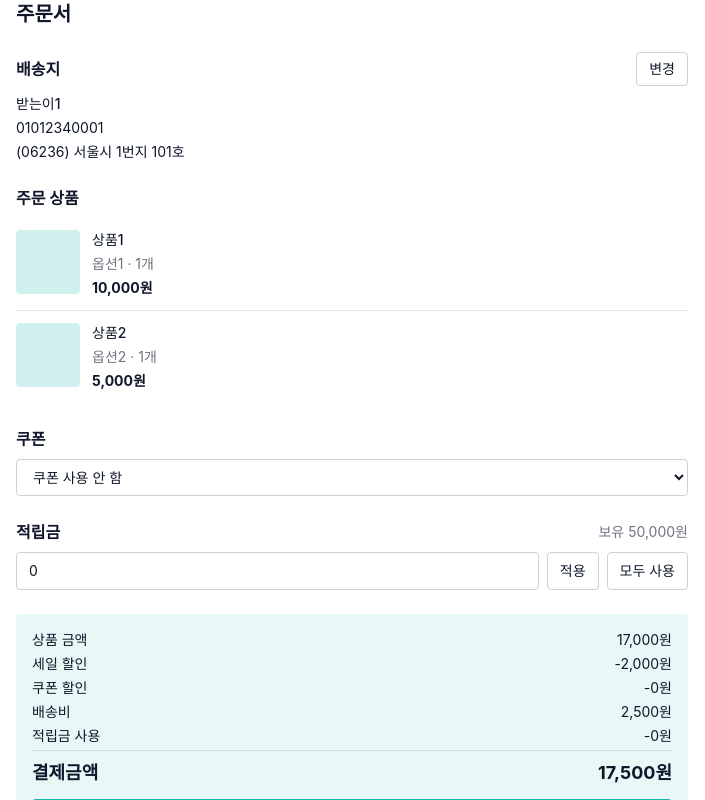
미리보기 오류면 메시지를 보여 주고 결제하기를 막는다
The width and height of the screenshot is (705, 800).
Expected: the text "상품1" is shown, [92, 231, 124, 248]
Replace the text in the number field named "사용할 적립금" with "17450" at {"x": 277, "y": 571}, box [16, 552, 539, 590]
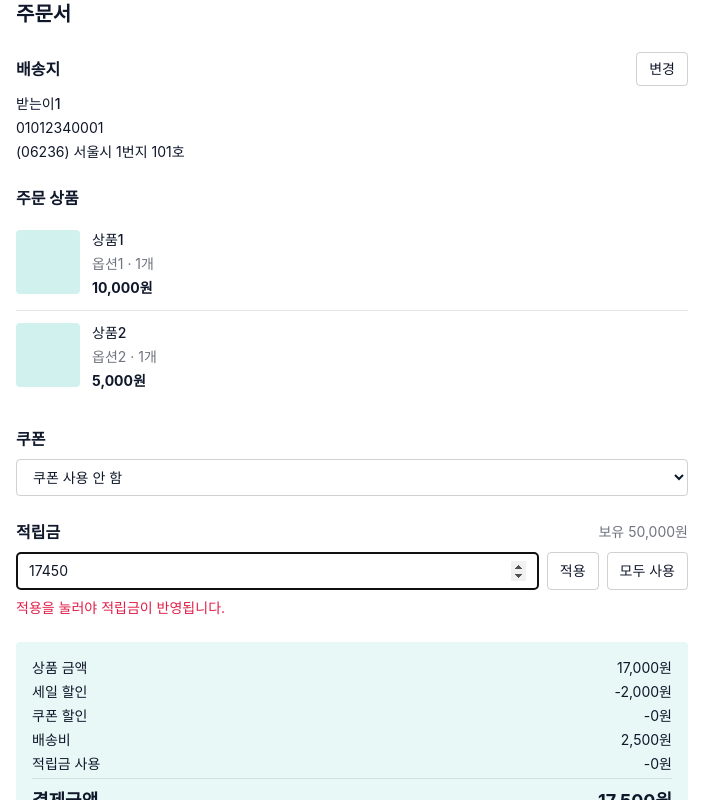
Click the button "적용" at {"x": 573, "y": 571}, box [547, 552, 599, 590]
(page scrolled)
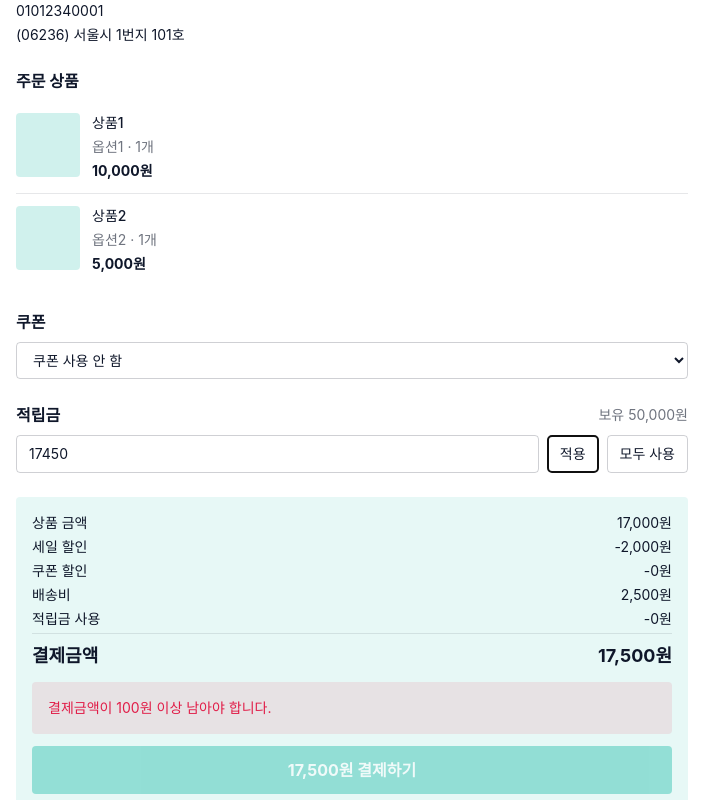
Expected: the text "상품1" is shown, [92, 114, 124, 131]
Expected: the button "17,500원 결제하기" is disabled, [32, 746, 672, 794]
Expected: the message reads "결제금액이 100원 이상 남아야 합니다.", [48, 699, 272, 716]
